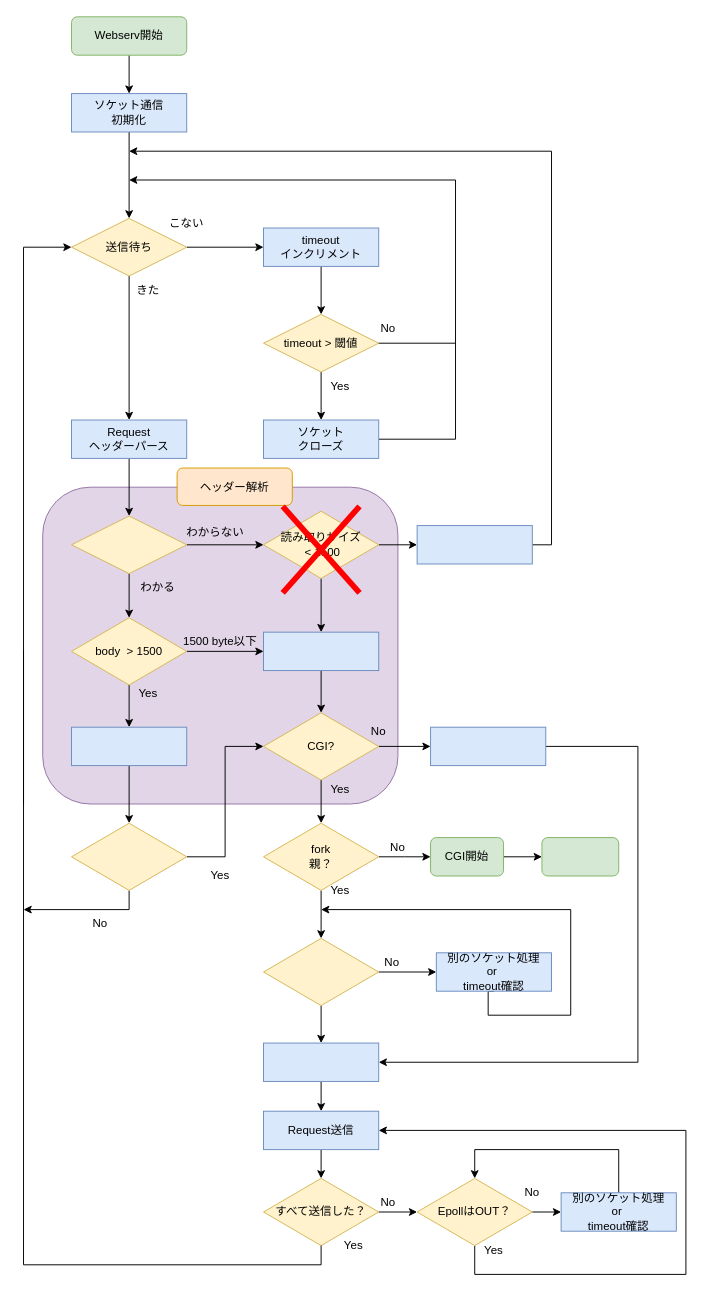
Some shapes in this 710 by 1299 pixel diagram are drawn without their labels. Here are the shapes that lost their labels. From the top down, the centre of each, then its label:
[129,544]: Bodyサイズ
[474,544]: エラー レスポンス送信
[321,651]: 配列に保存
[129,746]: 一時ファイルに保存
[488,746]: サーバー処理
[129,856]: Bodyのすべて 読み終わった？
[580,856]: CGI終了
[321,971]: 子プロセス 終了？
[321,1061]: Request作成
